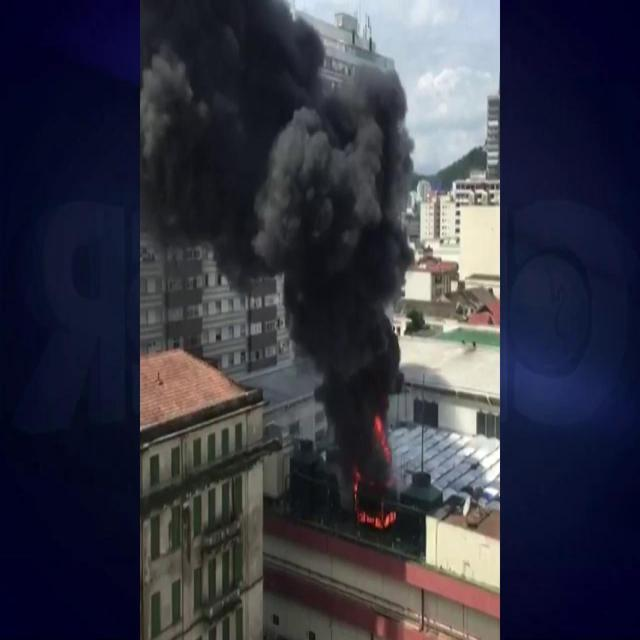Fire: (356, 476, 398, 529)
Smoke: (154, 4, 403, 466)
